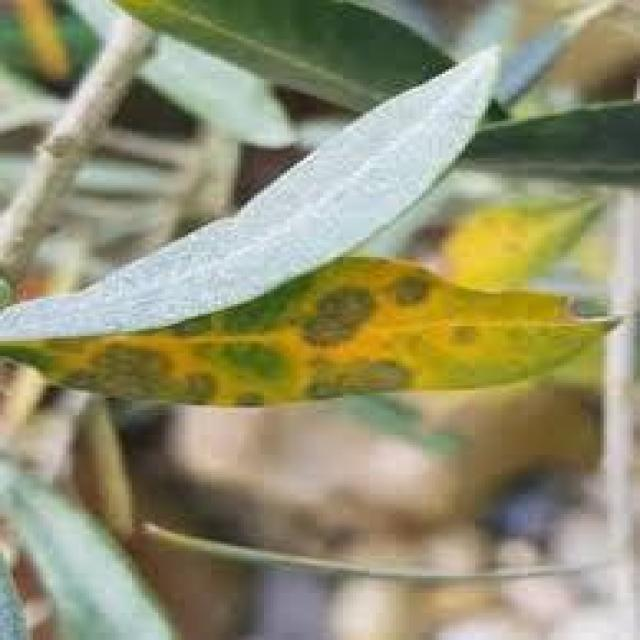Peacock Eye: (0, 254, 610, 410)
